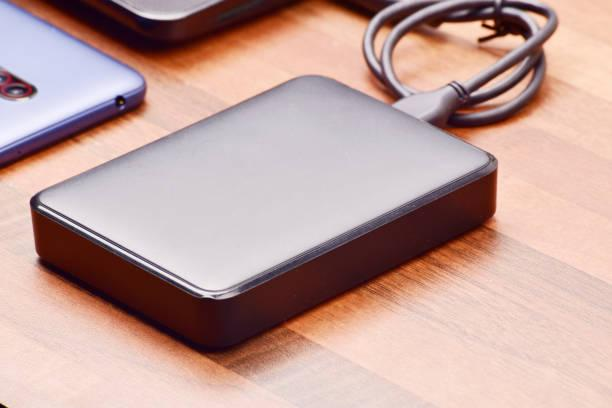HDD: (29, 75, 499, 352)
